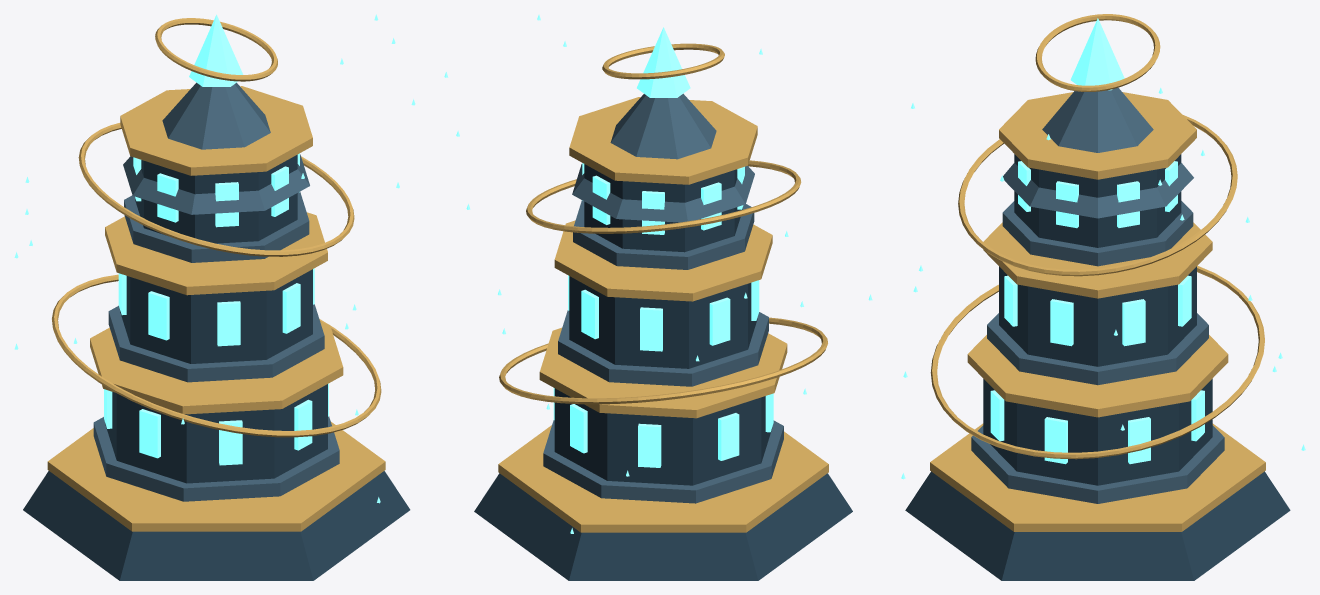
Rendered from tower.glb.
3 views of the same model, side by side, from view 1: azimuth 30°, elevation 25°; view 2: azimuth 150°, elevation 25°; view 3: azimuth 270°, elevation 25° (orthographic). The views are drawn at different scales.
Visible parts, largest first — view 1: Floating foundation, Foundation inlay, Tower chamber 0, Tower chamber 1, Spire, Golden ledge 0, Golden ledge 2, Golden ledge 1, Tower chamber 2, Cornice 0, Cornice 1, Celestial orbit (+13 smaller); view 2: Floating foundation, Foundation inlay, Tower chamber 0, Tower chamber 1, Spire, Golden ledge 2, Golden ledge 0, Golden ledge 1, Cornice 0, Tower chamber 2, Cornice 1, Cornice 2 (+12 smaller); view 3: Floating foundation, Foundation inlay, Tower chamber 0, Tower chamber 1, Golden ledge 0, Spire, Golden ledge 2, Golden ledge 1, Tower chamber 2, Cornice 0, Cornice 1, Celestial orbit (+14 smaller).
Boxes of the visible parts, box(x1,y1,x2,y2) form: Floating foundation: box(23, 471, 410, 580); Foundation inlay: box(47, 422, 385, 531); Tower chamber 0: box(105, 384, 327, 483); Tower chamber 1: box(120, 269, 312, 363); Spire: box(123, 82, 309, 214); Golden ledge 0: box(90, 322, 343, 414); Golden ledge 2: box(120, 86, 312, 175); Golden ledge 1: box(105, 212, 327, 295); Tower chamber 2: box(135, 154, 297, 243); Cornice 0: box(93, 416, 339, 501); Cornice 1: box(108, 304, 324, 382); Celestial orbit: box(52, 274, 381, 437); Floating foundation: box(474, 473, 852, 580); Foundation inlay: box(498, 425, 828, 532); Tower chamber 0: box(554, 388, 772, 485); Tower chamber 1: box(569, 276, 757, 368); Spire: box(572, 93, 754, 222); Golden ledge 2: box(569, 97, 757, 184); Golden ledge 0: box(539, 327, 787, 418); Golden ledge 1: box(554, 220, 772, 301); Cornice 0: box(543, 420, 783, 503); Tower chamber 2: box(584, 164, 742, 252); Cornice 1: box(558, 310, 768, 386); Cornice 2: box(573, 200, 754, 269); Floating foundation: box(905, 471, 1290, 580); Foundation inlay: box(930, 423, 1265, 531); Tower chamber 0: box(983, 379, 1212, 485); Tower chamber 1: box(999, 266, 1196, 366); Golden ledge 0: box(967, 335, 1228, 417); Spire: box(1003, 87, 1193, 218); Golden ledge 2: box(999, 92, 1196, 179); Golden ledge 1: box(983, 222, 1212, 298); Tower chamber 2: box(1014, 154, 1181, 247); Cornice 0: box(971, 425, 1224, 503); Cornice 1: box(987, 313, 1208, 385); Celestial orbit: box(930, 265, 1264, 459).
Size of the model in its own units: 4.59 by 5.93 by 4.41.
